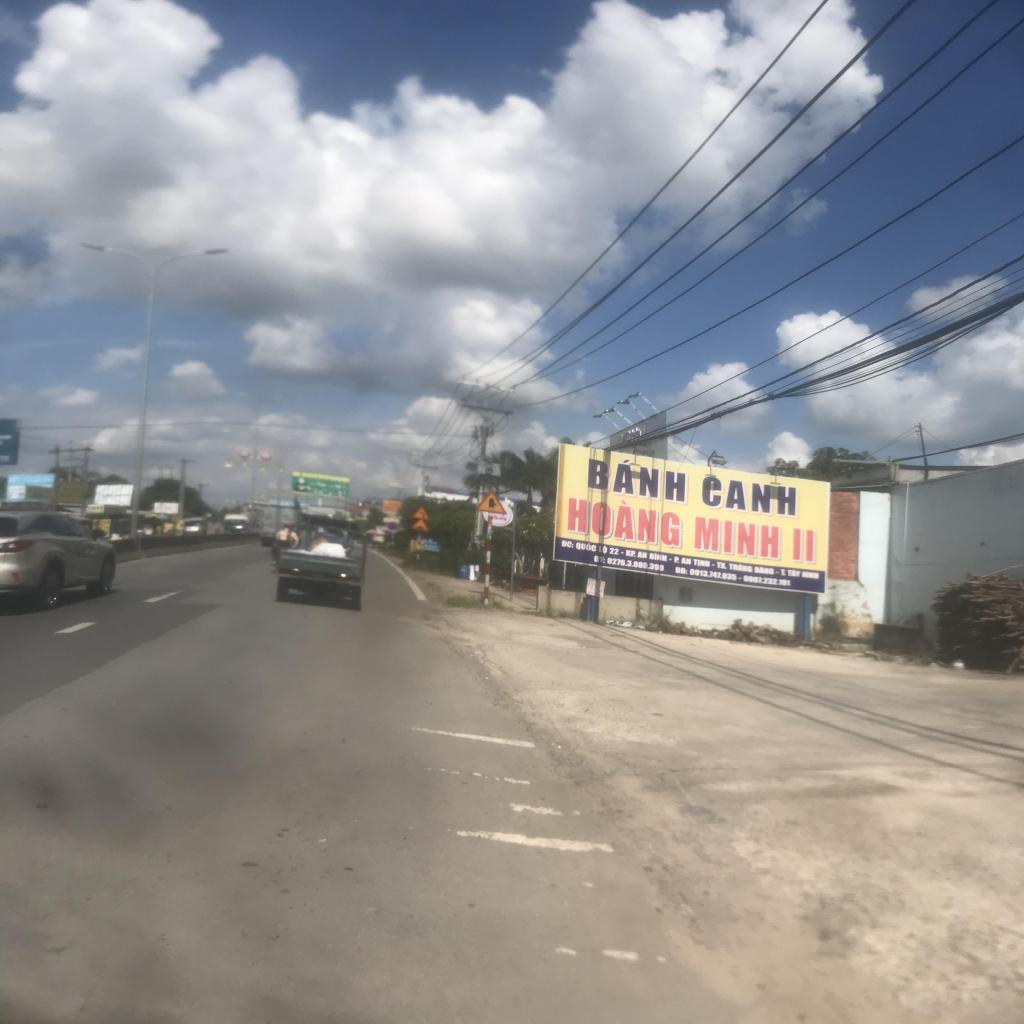cam_do_xe: (388, 522, 396, 530)
cho_ngoat_nguy_hiem_ben_trai: (411, 505, 430, 520)
duong_co_song_map_mo_nhan_tao: (410, 518, 430, 531)
giao_nhau_voi_duong_khong_uu_tien: (474, 488, 509, 516)
